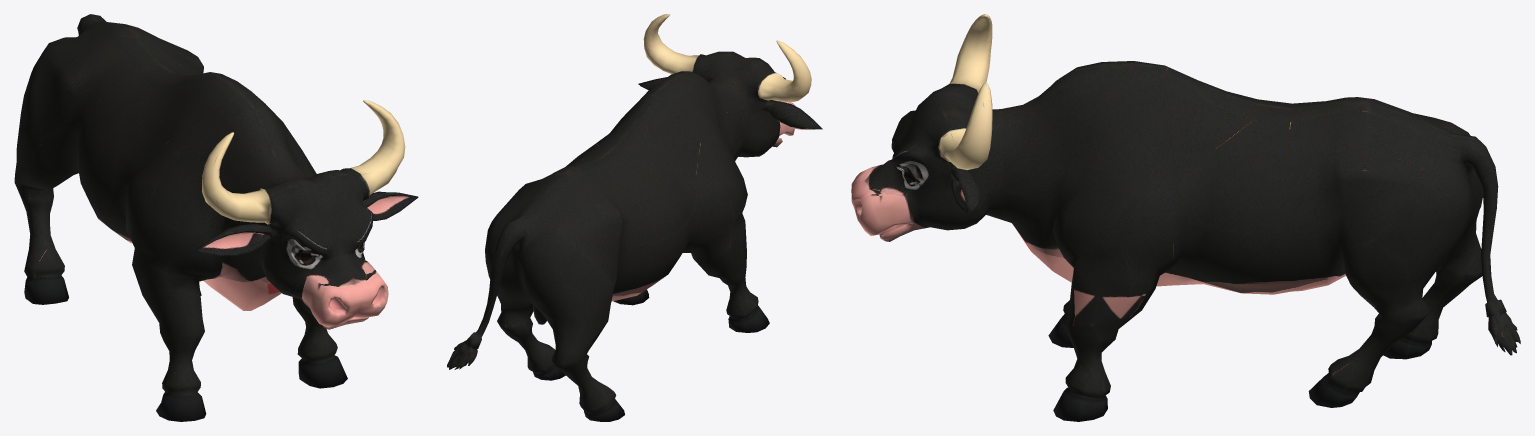
The model's file is buffalo.glb.
3 renders of one model, left to right at view 1: azimuth 30°, elevation 25°; view 2: azimuth 150°, elevation 25°; view 3: azimuth 270°, elevation 25°, orthographic. The views are drawn at different scales.
Bounding box in the file's own units: 0.3862 × 0.5156 × 0.9502.
1 material, 1 textured.
